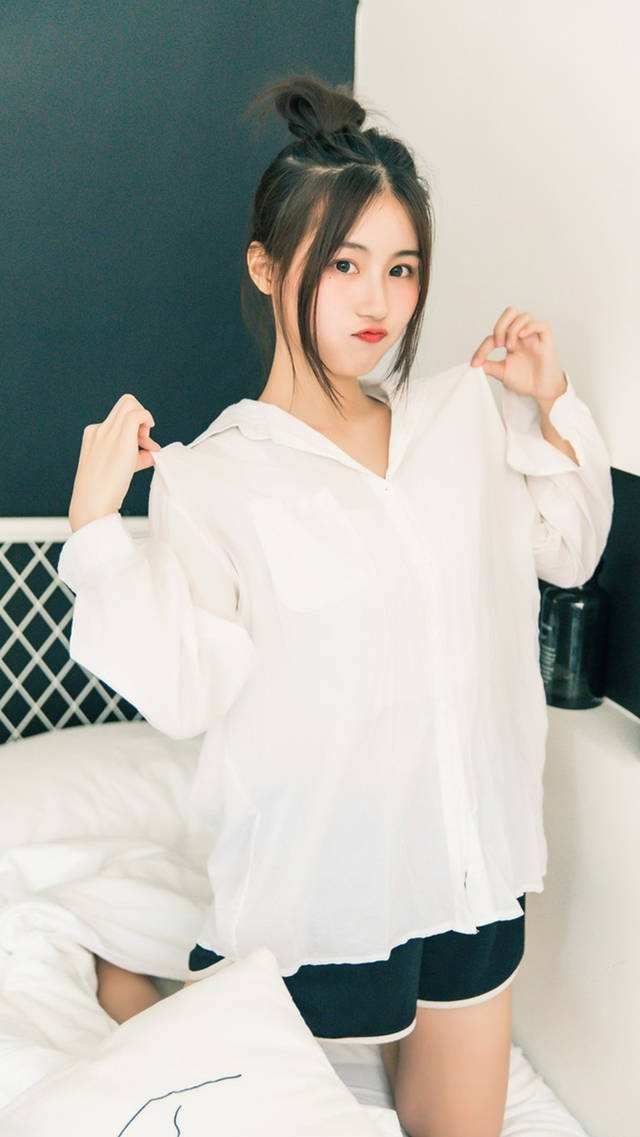person: (122, 103, 577, 1056)
